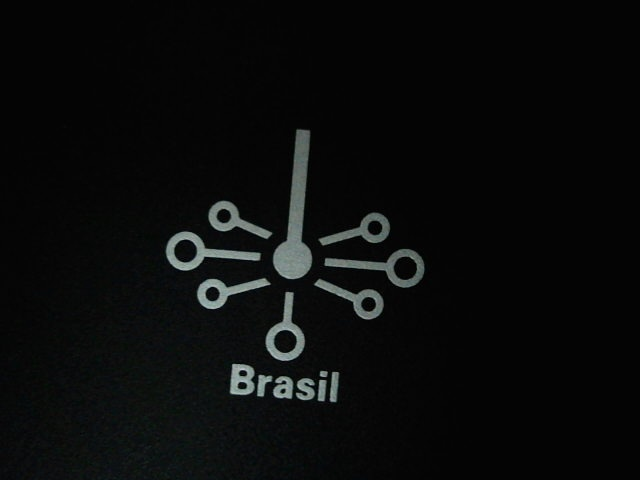BG_Brasil: (159, 120, 434, 415)
